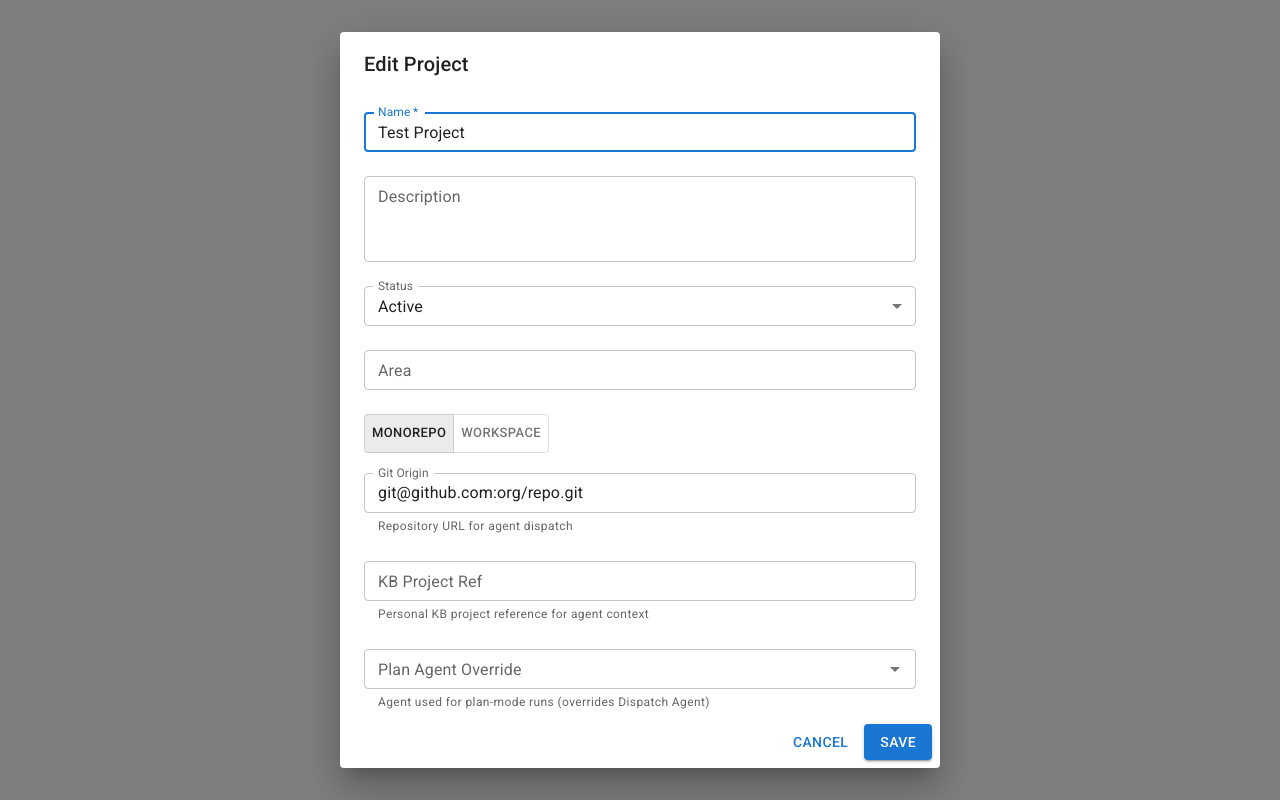
Test case: ProjectEditDialog › (h) pre-seed workspace repo list from existing gitOrigin on monorepo→workspace toggle › (1) edit mode, monorepo with non-empty gitOrigin → click Workspace → one Repo URL row equal to gitOrigin
Click the button "Workspace" at (501,433), box top-left (453, 414), bottom-right (549, 453)
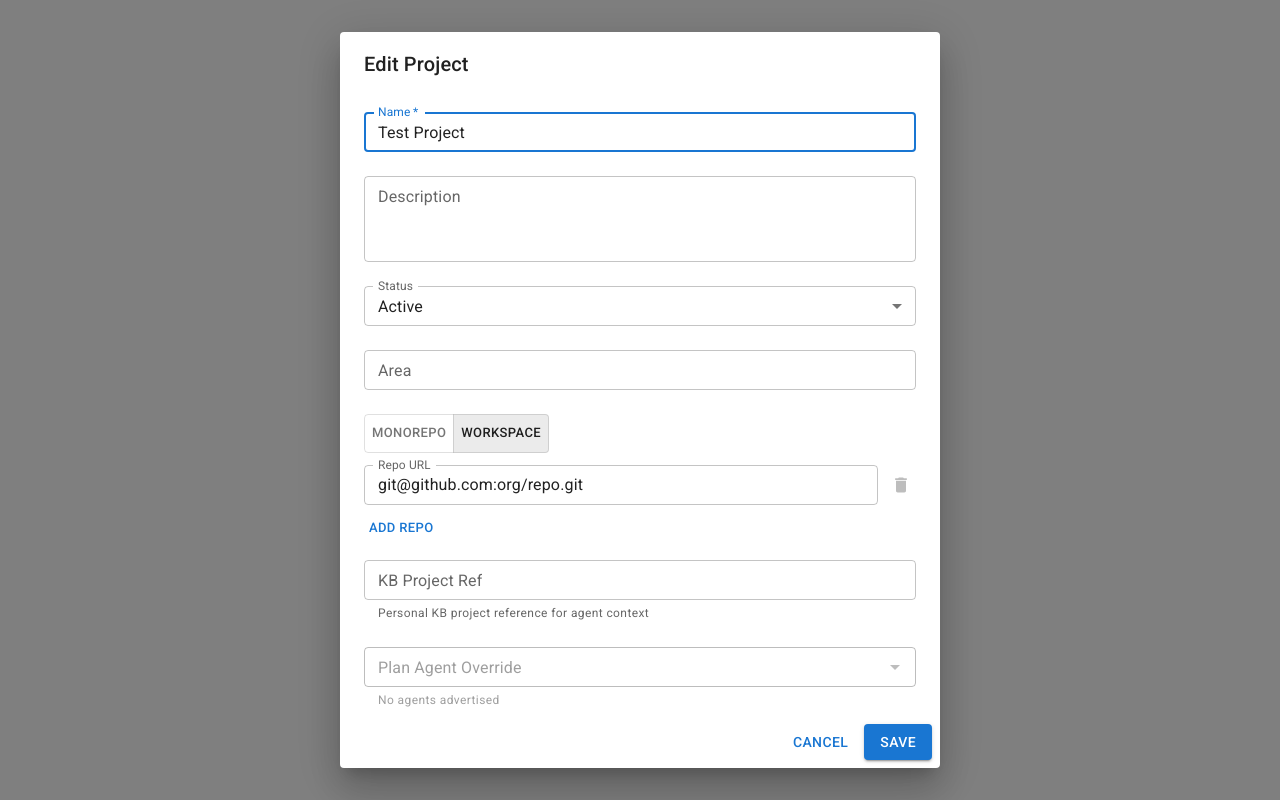
Expected: the label labelled "Git Origin" is gone
Expected: the number of fields labelled "Repo URL" is 1, top-left (364, 465), bottom-right (878, 505)
Expected: the field labelled "Repo URL" holds "git@github.com:org/repo.git", top-left (364, 465), bottom-right (878, 505)
